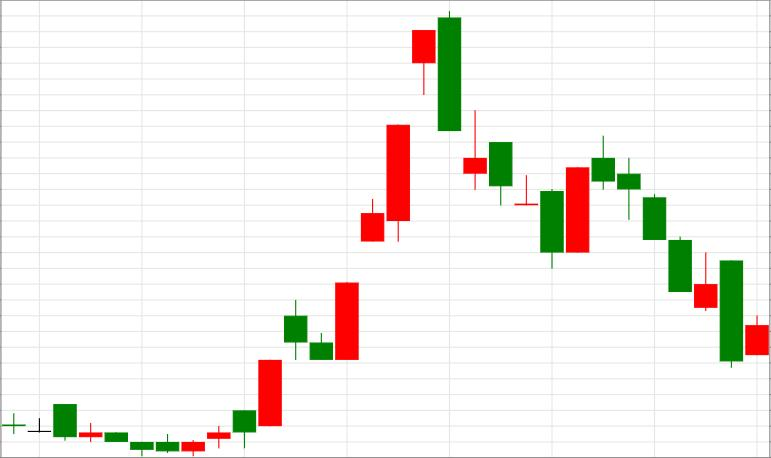bearish_engulfing_fall: (335, 11, 462, 360)
